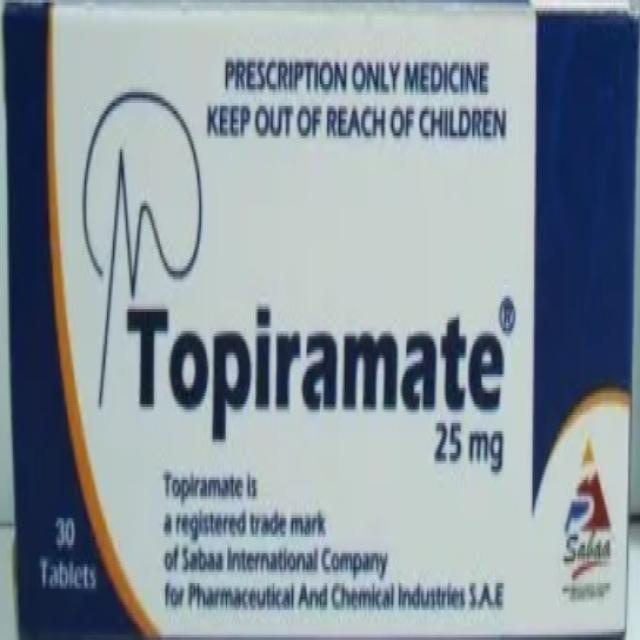drug-name: (122, 304, 506, 442)
